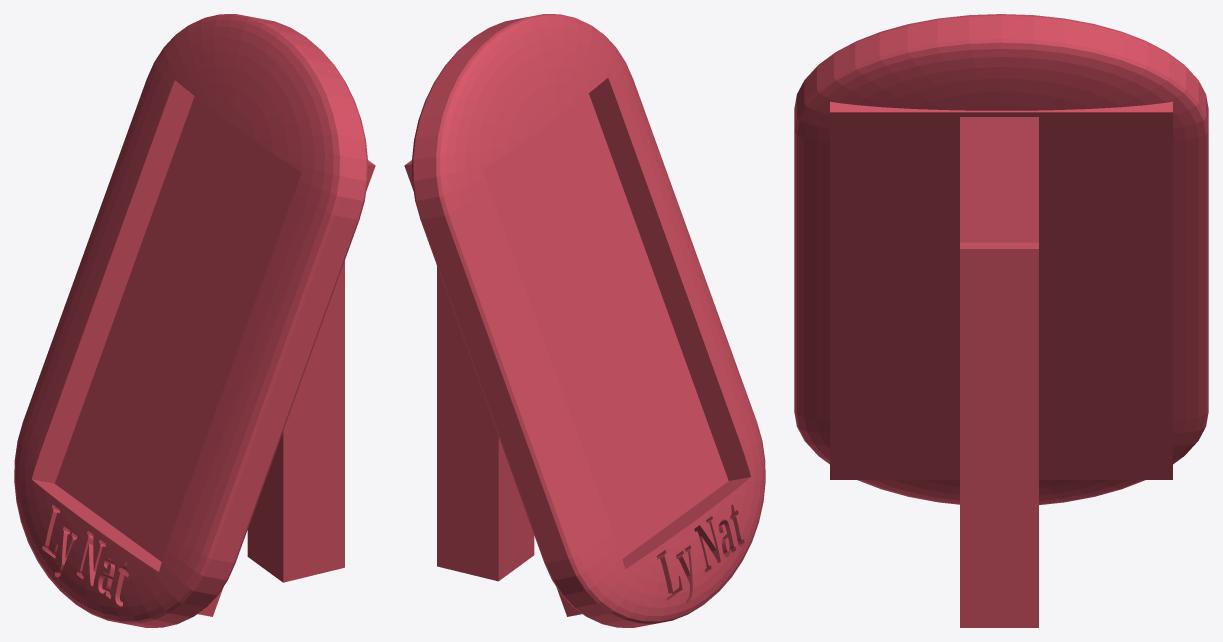
The model's file is asset.glb.
The picture shows the model from 3 angles, left to right: view 1: azimuth 30°, elevation 25°; view 2: azimuth 150°, elevation 25°; view 3: azimuth 270°, elevation 25°; orthographic projection. The views are drawn at different scales.
Visible parts, largest first — view 1: Mesh_Mesh_head_geo.001_lambert2SG.001; view 2: Mesh_Mesh_head_geo.001_lambert2SG.001; view 3: Mesh_Mesh_head_geo.001_lambert2SG.001.
Boxes of the visible parts, bbox=[...] form: Mesh_Mesh_head_geo.001_lambert2SG.001: bbox=[14, 14, 375, 627]; Mesh_Mesh_head_geo.001_lambert2SG.001: bbox=[404, 14, 765, 627]; Mesh_Mesh_head_geo.001_lambert2SG.001: bbox=[794, 14, 1208, 627].
Size of the model in its own units: 82 by 165 by 105.
